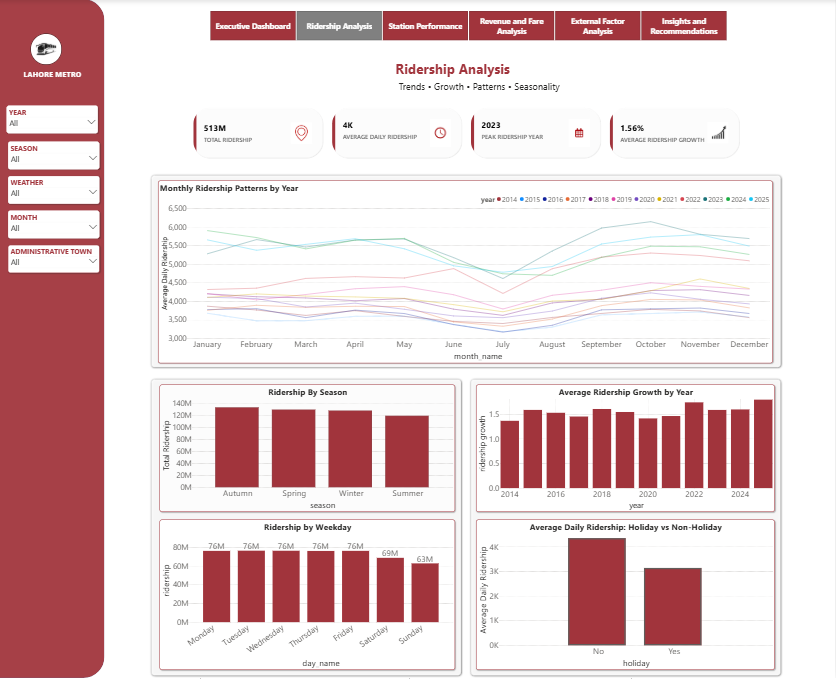

What the dashboard file says about the page in this screenshot:
{"tool":"powerbi","page":{"name":"Ridership Analysis","canvas":[8000,6500],"ordinal":1},"visuals":[{"type":"shape","box":[0,0,1010,6500],"z":0},{"type":"textbox","box":[225,660,610,174],"z":1000},{"type":"image","box":[305,325,300,300],"z":2000},{"type":"textbox","box":[3420,570,2090,450],"z":3000},{"type":"cardVisual","fields":{"Data":["lahore_metro_analysis ridership.Total Ridership","lahore_metro_analysis ridership.Average Daily Ridership","lahore_metro_analysis ridership.Peak Ridership Year","lahore_metro_analysis ridership.Average Ridership Growth Display"]},"box":[1820,1010,5300,550],"z":4000},{"type":"pageNavigator","box":[2020,120,4940,280],"z":5000},{"type":"slicer","fields":{"Values":["lahore_metro_analysis ridership.year"]},"box":[65,1020,875,267.5],"z":6000},{"type":"slicer","fields":{"Values":["lahore_metro_analysis ridership.season"]},"box":[80,1360,875,267.5],"z":7000},{"type":"slicer","fields":{"Values":["lahore_metro_analysis ridership.month_name"]},"box":[80,2025,875,267.5],"z":8000},{"type":"slicer","fields":{"Values":["lahore_metro_analysis ridership.weather"]},"box":[80,1700,875,267.5],"z":9000},{"type":"slicer","fields":{"Values":["lahore_metro_analysis ridership.administrative_town"]},"box":[80,2357.5,875,267.5],"z":10000},{"type":"shape","box":[1432.6,1670,6070.8,1882.2],"z":11000},{"type":"lineChart","title":"Monthly Ridership Patterns by Year","fields":{"Series":["lahore_metro_analysis ridership.year"],"Y":["lahore_metro_analysis ridership.Average Daily Ridership"],"Category":["lahore_metro_analysis ridership.month_name"]},"box":[1525.4,1736.3,5885.3,1749.7],"z":12000},{"type":"shape","box":[1430,3620,3010,2880],"z":13000},{"type":"shape","box":[4490,3620,3010,2880],"z":14000},{"type":"columnChart","title":"Ridership By Season","fields":{"Category":["lahore_metro_analysis ridership.season"],"Y":["lahore_metro_analysis ridership.Total Ridership"]},"box":[1530,3690,2830,1220],"z":15000},{"type":"clusteredColumnChart","title":"Average Ridership Growth by Year","fields":{"Category":["lahore_metro_analysis ridership.year"],"Y":["lahore_metro_analysis ridership.Average Ridership Growth"]},"box":[4560,3690,2860,1220],"z":16000},{"type":"clusteredColumnChart","title":"Ridership by Weekday","fields":{"Category":["lahore_metro_analysis ridership.day_name"],"Y":["lahore_metro_analysis ridership.Total Ridership"]},"box":[1530,4980,2830,1440],"z":17000},{"type":"clusteredColumnChart","title":"Average Daily Ridership: Holiday vs Non-Holiday","fields":{"Category":["lahore_metro_analysis ridership.holiday"],"Y":["lahore_metro_analysis ridership.Average Daily Ridership"]},"box":[4560,4980,2860,1440],"z":18000}]}

Visuals, with their boxes in screenshot pixels (x1, y1, x2, y2), scaled from the page's 8000x6500 canvas onto the 836x679 screenshot:
shape: [0, 0, 106, 678]
textbox: [24, 69, 87, 87]
image: [32, 34, 63, 65]
textbox: [357, 60, 576, 107]
cardVisual - lahore_metro_analysis ridership.Total Ridership x lahore_metro_analysis ridership.Average Daily Ridership: [190, 106, 744, 163]
pageNavigator: [211, 13, 727, 42]
slicer - lahore_metro_analysis ridership.year: [7, 107, 98, 134]
slicer - lahore_metro_analysis ridership.season: [8, 142, 100, 170]
slicer - lahore_metro_analysis ridership.month_name: [8, 212, 100, 239]
slicer - lahore_metro_analysis ridership.weather: [8, 178, 100, 206]
slicer - lahore_metro_analysis ridership.administrative_town: [8, 246, 100, 274]
shape: [150, 174, 784, 371]
"Monthly Ridership Patterns by Year" lineChart: [159, 181, 774, 364]
shape: [149, 378, 464, 678]
shape: [469, 378, 784, 678]
"Ridership By Season" columnChart: [160, 385, 456, 513]
"Average Ridership Growth by Year" clusteredColumnChart: [477, 385, 775, 513]
"Ridership by Weekday" clusteredColumnChart: [160, 520, 456, 671]
"Average Daily Ridership: Holiday vs Non-Holiday" clusteredColumnChart: [477, 520, 775, 671]
